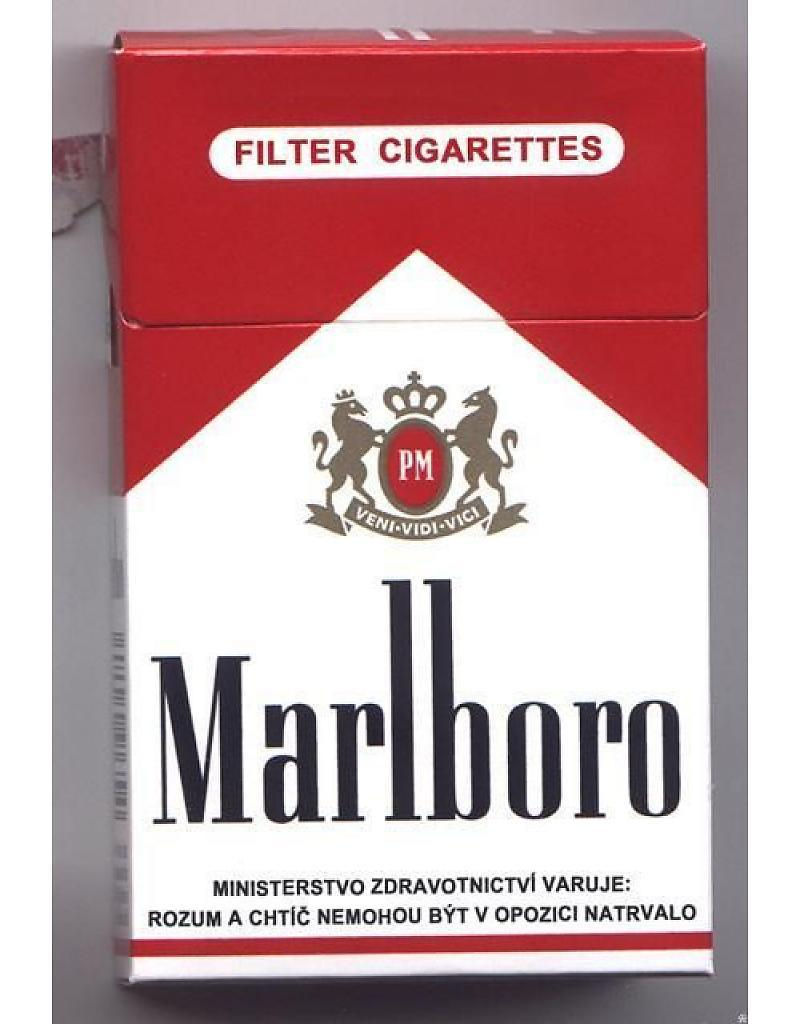marlboro_red: (121, 45, 718, 990)
